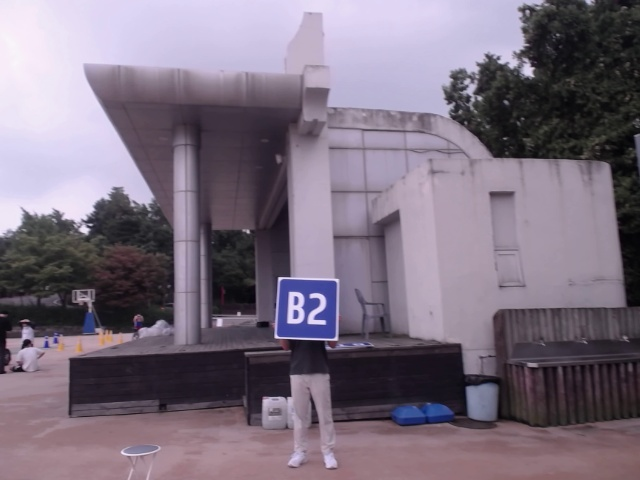delivery_b2: (273, 278, 337, 341)
